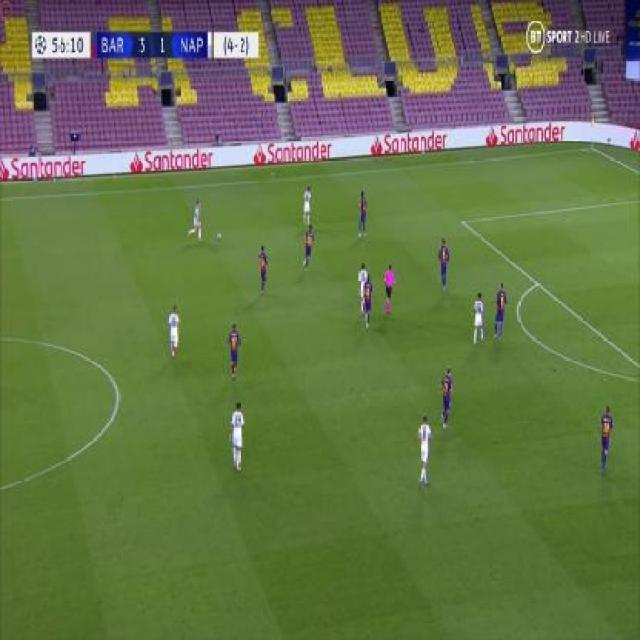ball: (216, 231, 222, 240)
player: (415, 409, 434, 491), (228, 396, 247, 473), (598, 402, 614, 475), (437, 364, 454, 432), (491, 279, 507, 342), (225, 319, 241, 379), (435, 236, 451, 292), (361, 270, 375, 329), (166, 301, 180, 360), (382, 259, 396, 316), (472, 289, 486, 346), (256, 242, 270, 295), (355, 188, 369, 241), (188, 198, 204, 244), (301, 222, 315, 273), (357, 259, 368, 315), (302, 183, 313, 226)
